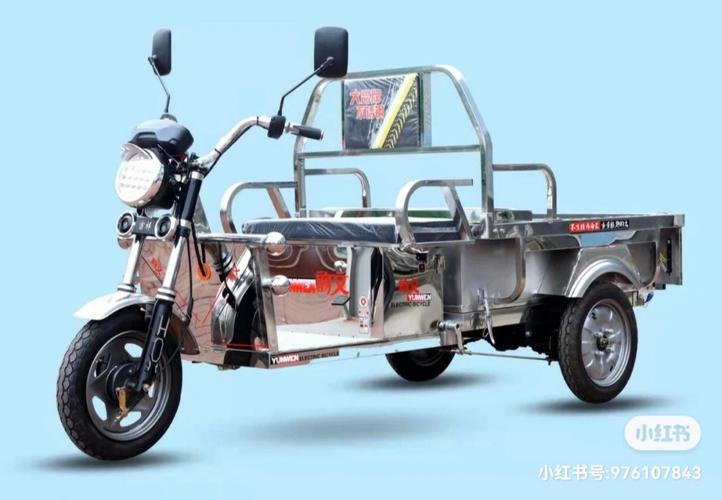empty: (36, 15, 677, 455)
